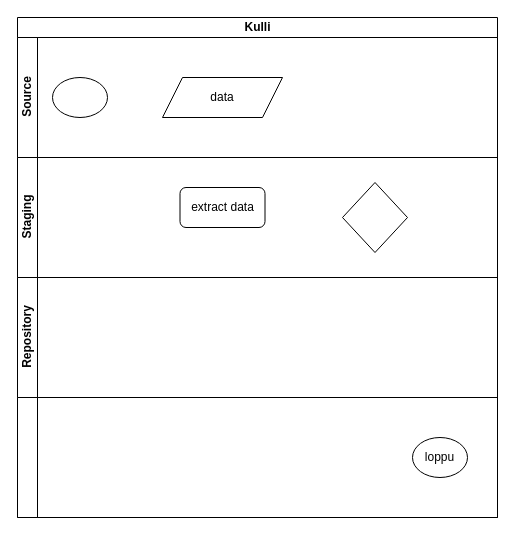
This 515x535 diagram has some shape labels left out. The box of each missing label's shape, as (x1, y1, x2, y2) in pixels:
alku: (52, 76, 108, 118)
onko csv: (342, 182, 408, 252)
Reporting: (16, 396, 498, 518)
